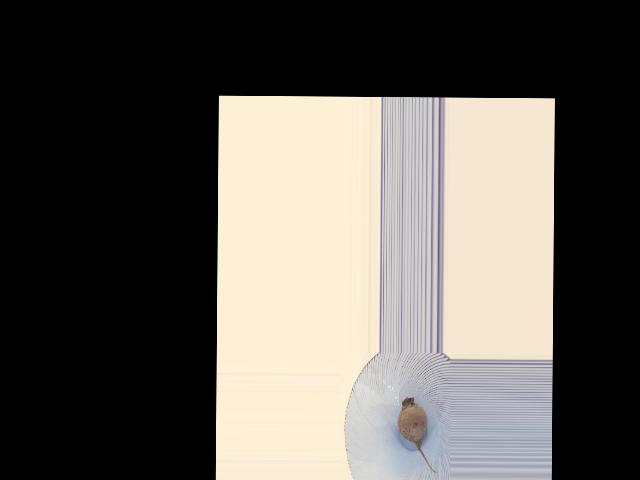beet: (398, 396, 437, 472)
